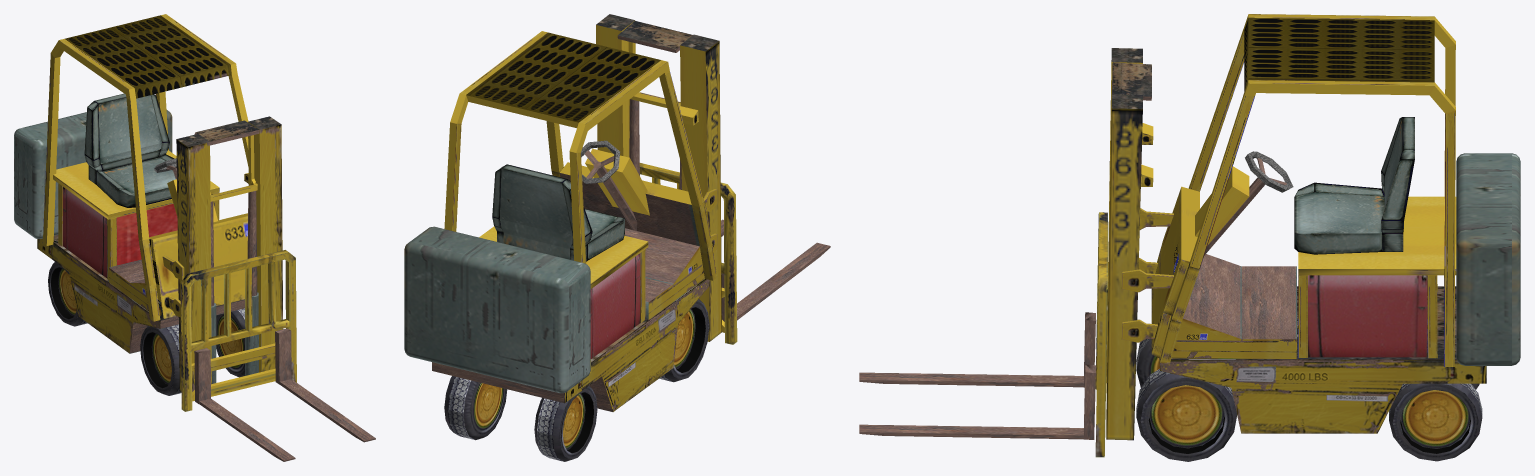
File: forklift.fbx
The picture shows the model from 3 angles, left to right: view 1: azimuth 30°, elevation 25°; view 2: azimuth 150°, elevation 25°; view 3: azimuth 270°, elevation 25°; orthographic projection. The views are drawn at different scales.
Visible parts, largest first — view 1: forklift; view 2: forklift; view 3: forklift.
Part boxes in pixels (<box>): forklift: <box>14,14,375,461</box>; forklift: <box>404,14,830,461</box>; forklift: <box>859,14,1520,461</box>.
Bounding box in the file's own units: 150 × 300 × 467.
